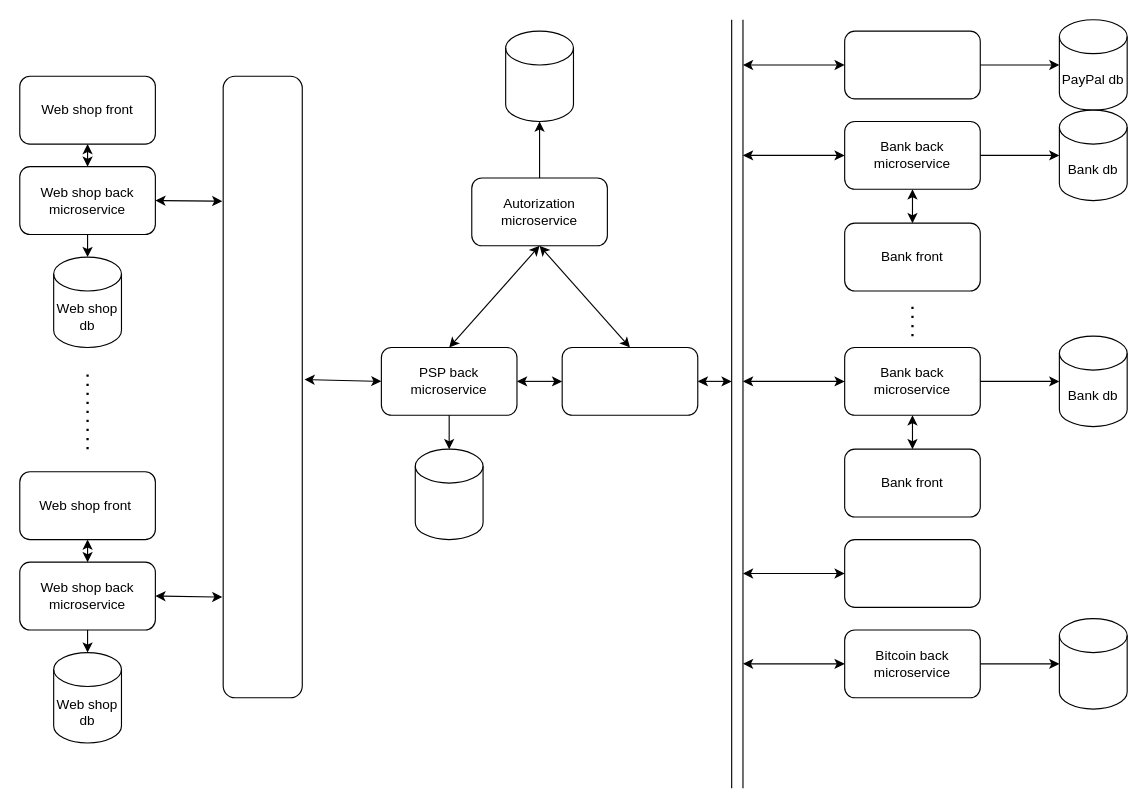
This 1147x809 diagram has some shape labels left out. The box of each missing label's shape, as (x1, y1, x2, y2) in pixels:
Autorization db: (505, 30, 573, 121)
Bitcoin db: (1058, 618, 1127, 709)
Gateway: (561, 346, 698, 415)
PayPal back microservice: (844, 30, 980, 99)
PCC back microservice: (844, 538, 980, 607)
PSP db: (414, 448, 483, 540)
RabbitMQ: (222, 75, 302, 698)
